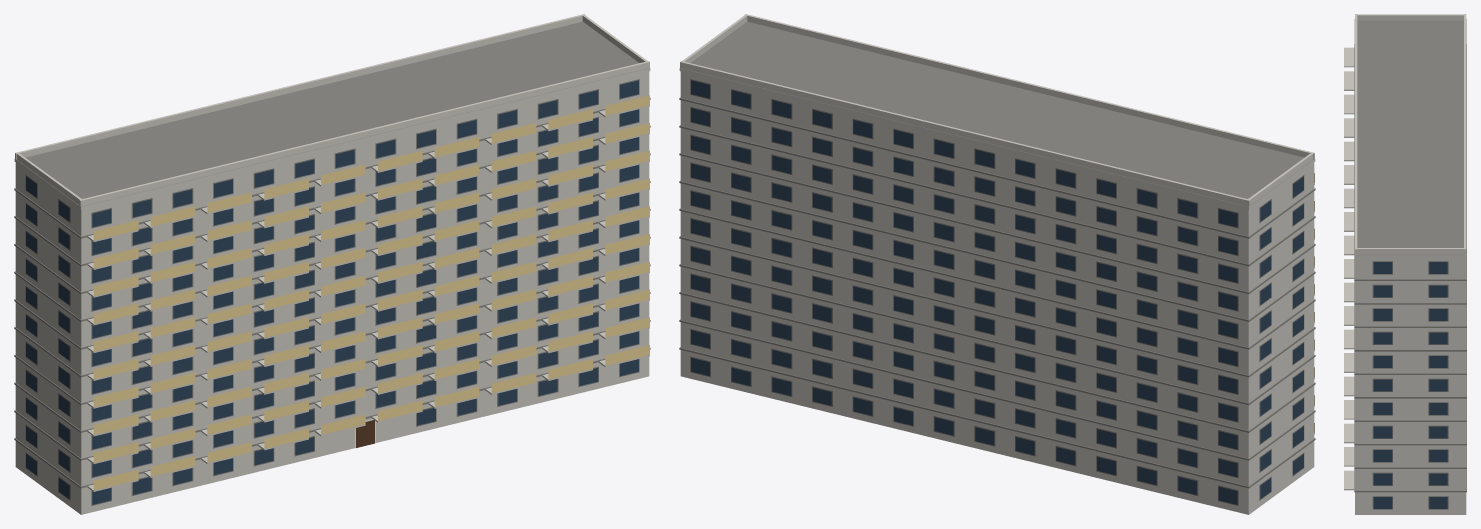
File: plattenbau.glb
The picture shows the model from 3 angles, left to right: view 1: azimuth 30°, elevation 25°; view 2: azimuth 150°, elevation 25°; view 3: azimuth 270°, elevation 25°; orthographic projection. The views are drawn at different scales.
Visible parts, largest first — view 1: plattenbau; view 2: plattenbau; view 3: plattenbau.
Boxes of the visible parts, <box> form: plattenbau: <box>14,14,650,514</box>; plattenbau: <box>679,14,1315,514</box>; plattenbau: <box>1344,14,1466,514</box>.
Size of the model in its own units: 60.16 by 31.7 by 13.28.
Materials: 1 (1 with a texture image).
